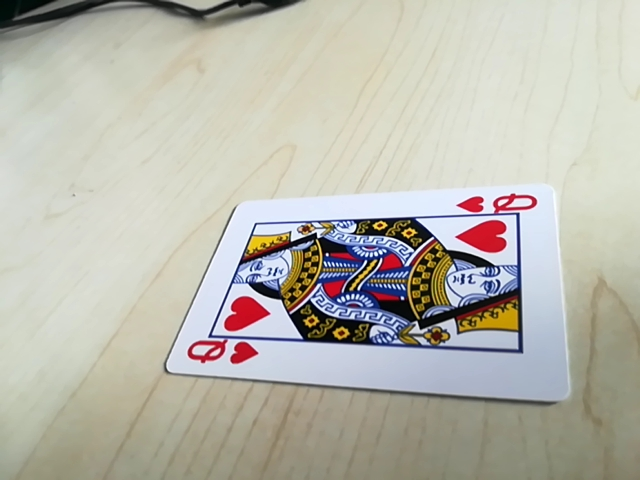hx q: (180, 338, 262, 371), (457, 189, 544, 219)
